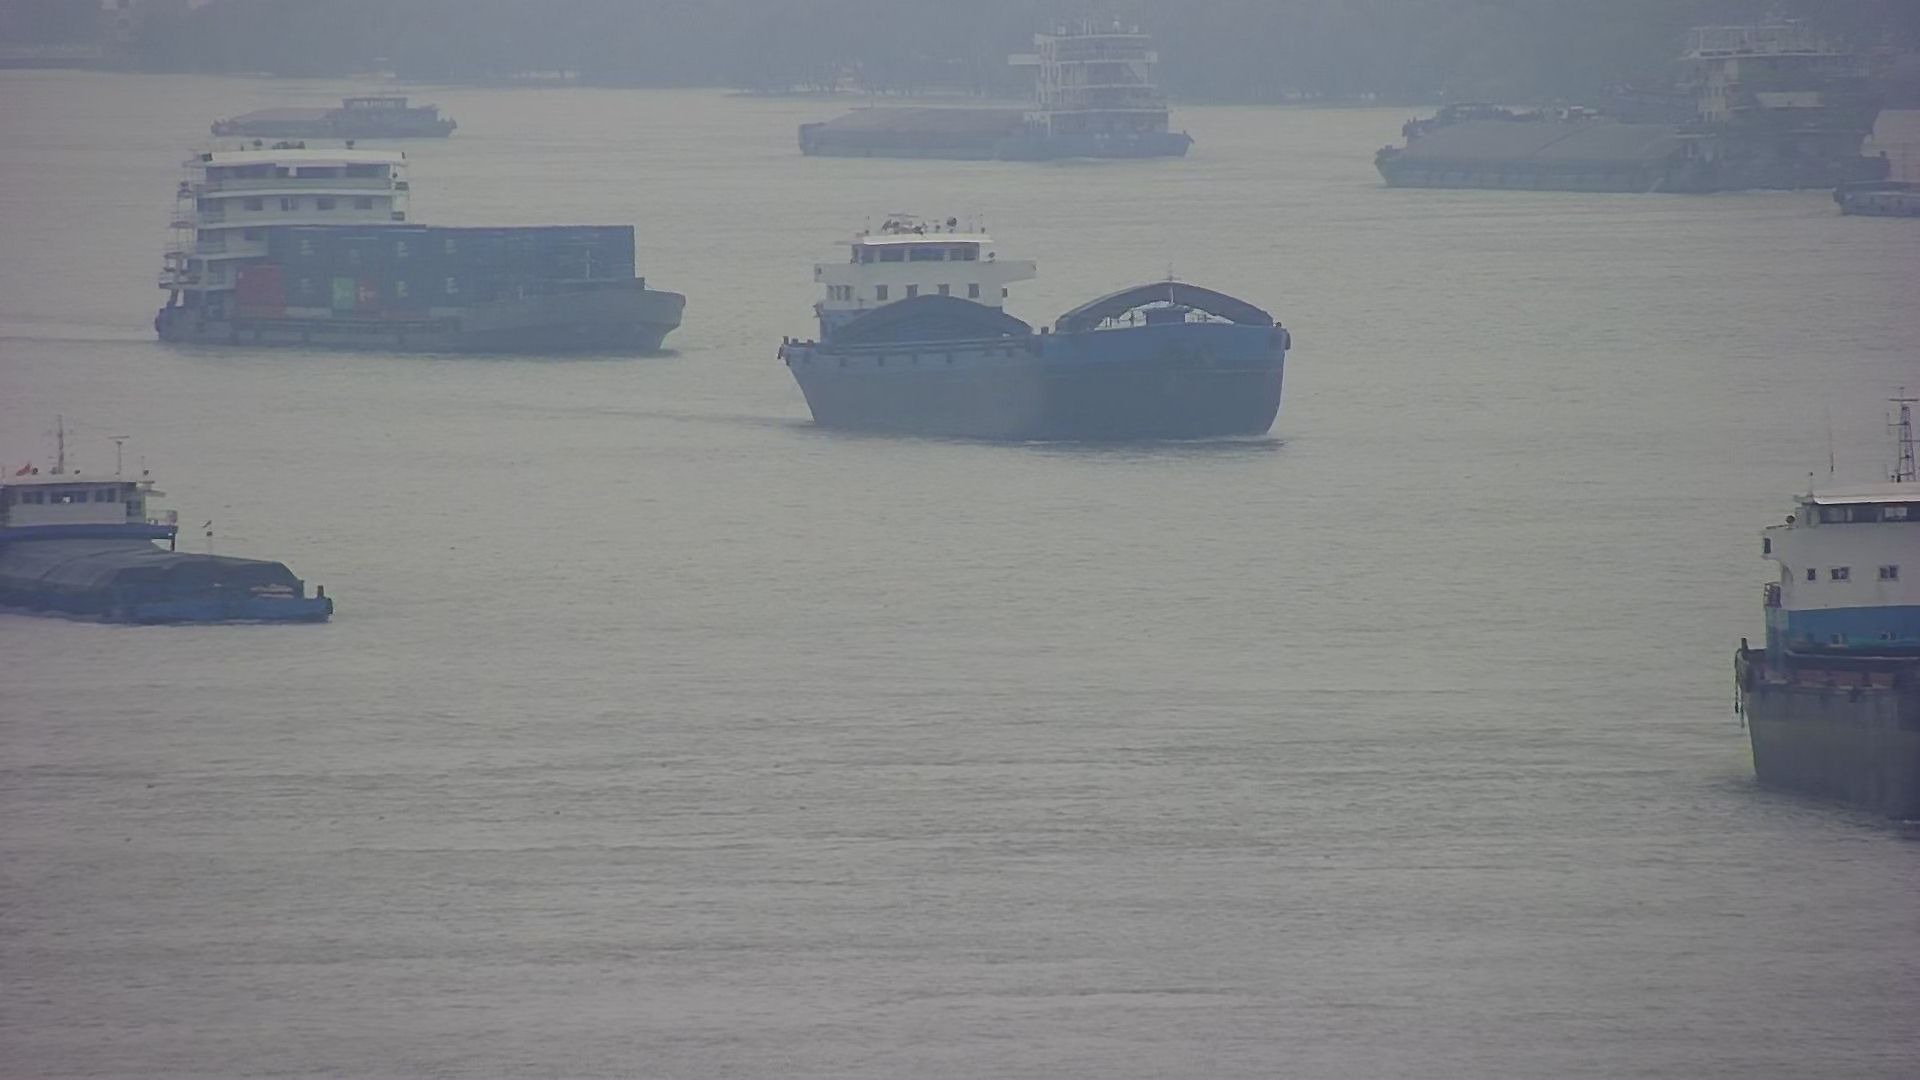ship: (785, 219, 1291, 442), (157, 140, 688, 351), (1737, 392, 1920, 837), (1373, 32, 1898, 187), (1, 427, 336, 620), (799, 18, 1189, 165), (208, 67, 458, 149)
